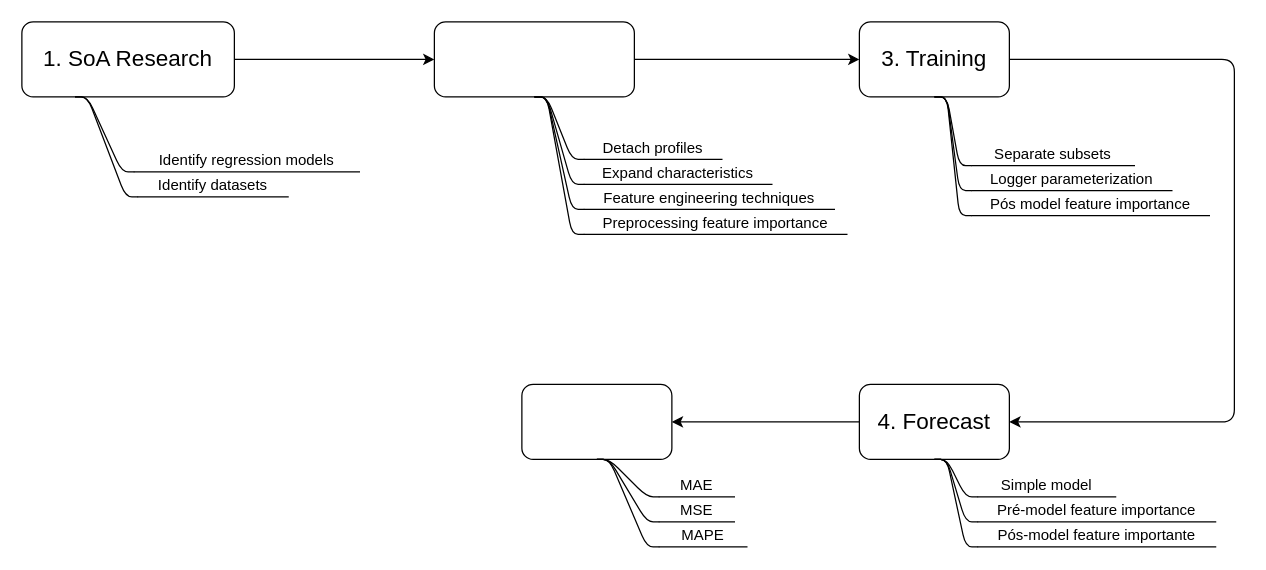
Some shapes in this 1266 by 570 pixel diagram are drawn without their labels. The box of each missing label's shape, as (x1, y1, x2, y2) in pixels:
2. Preprocessing: (433, 21, 634, 97)
5. Evaluation: (521, 383, 672, 459)
